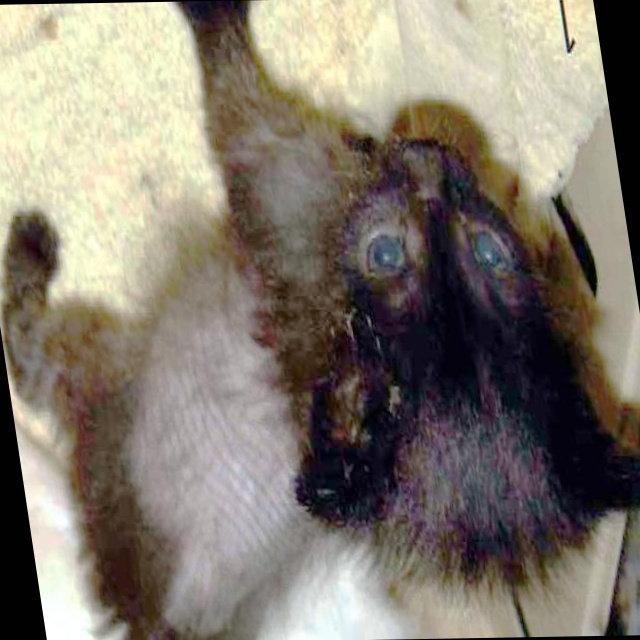hairloss: (114, 284, 318, 587)
